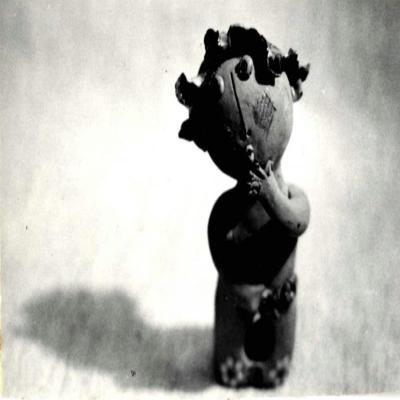sculpture: (176, 26, 310, 391)
